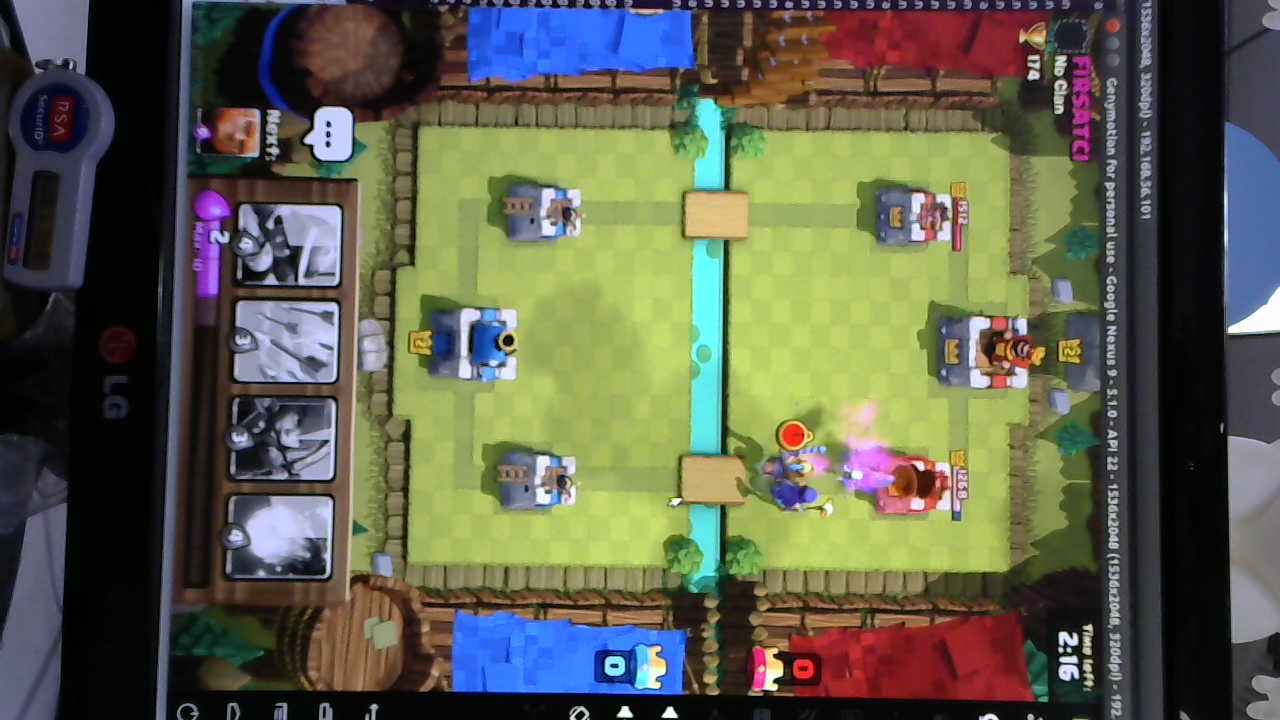arena: (502, 178, 584, 246), (499, 447, 581, 514)
earena: (872, 185, 954, 250), (876, 456, 957, 520)
eking: (934, 310, 1041, 391)
king: (431, 302, 517, 386)
prince: (755, 450, 825, 487)
skeleton: (835, 456, 872, 495)
witch: (765, 483, 835, 516)
